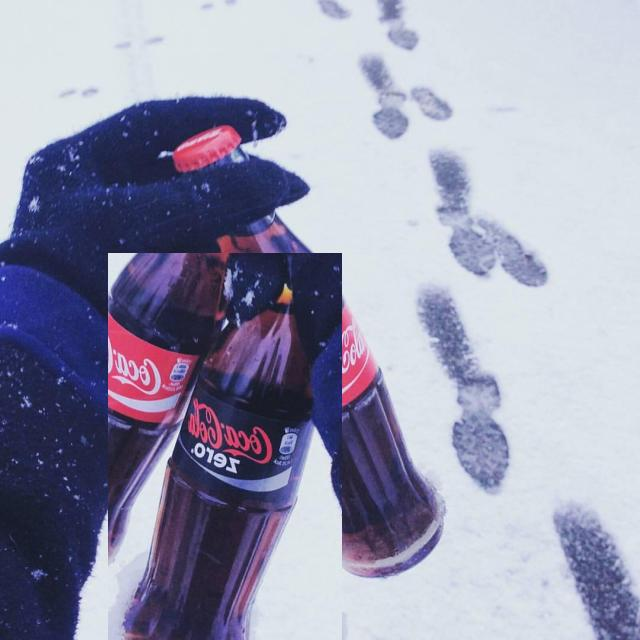coca-cola: (174, 117, 448, 582), (108, 253, 342, 640)
